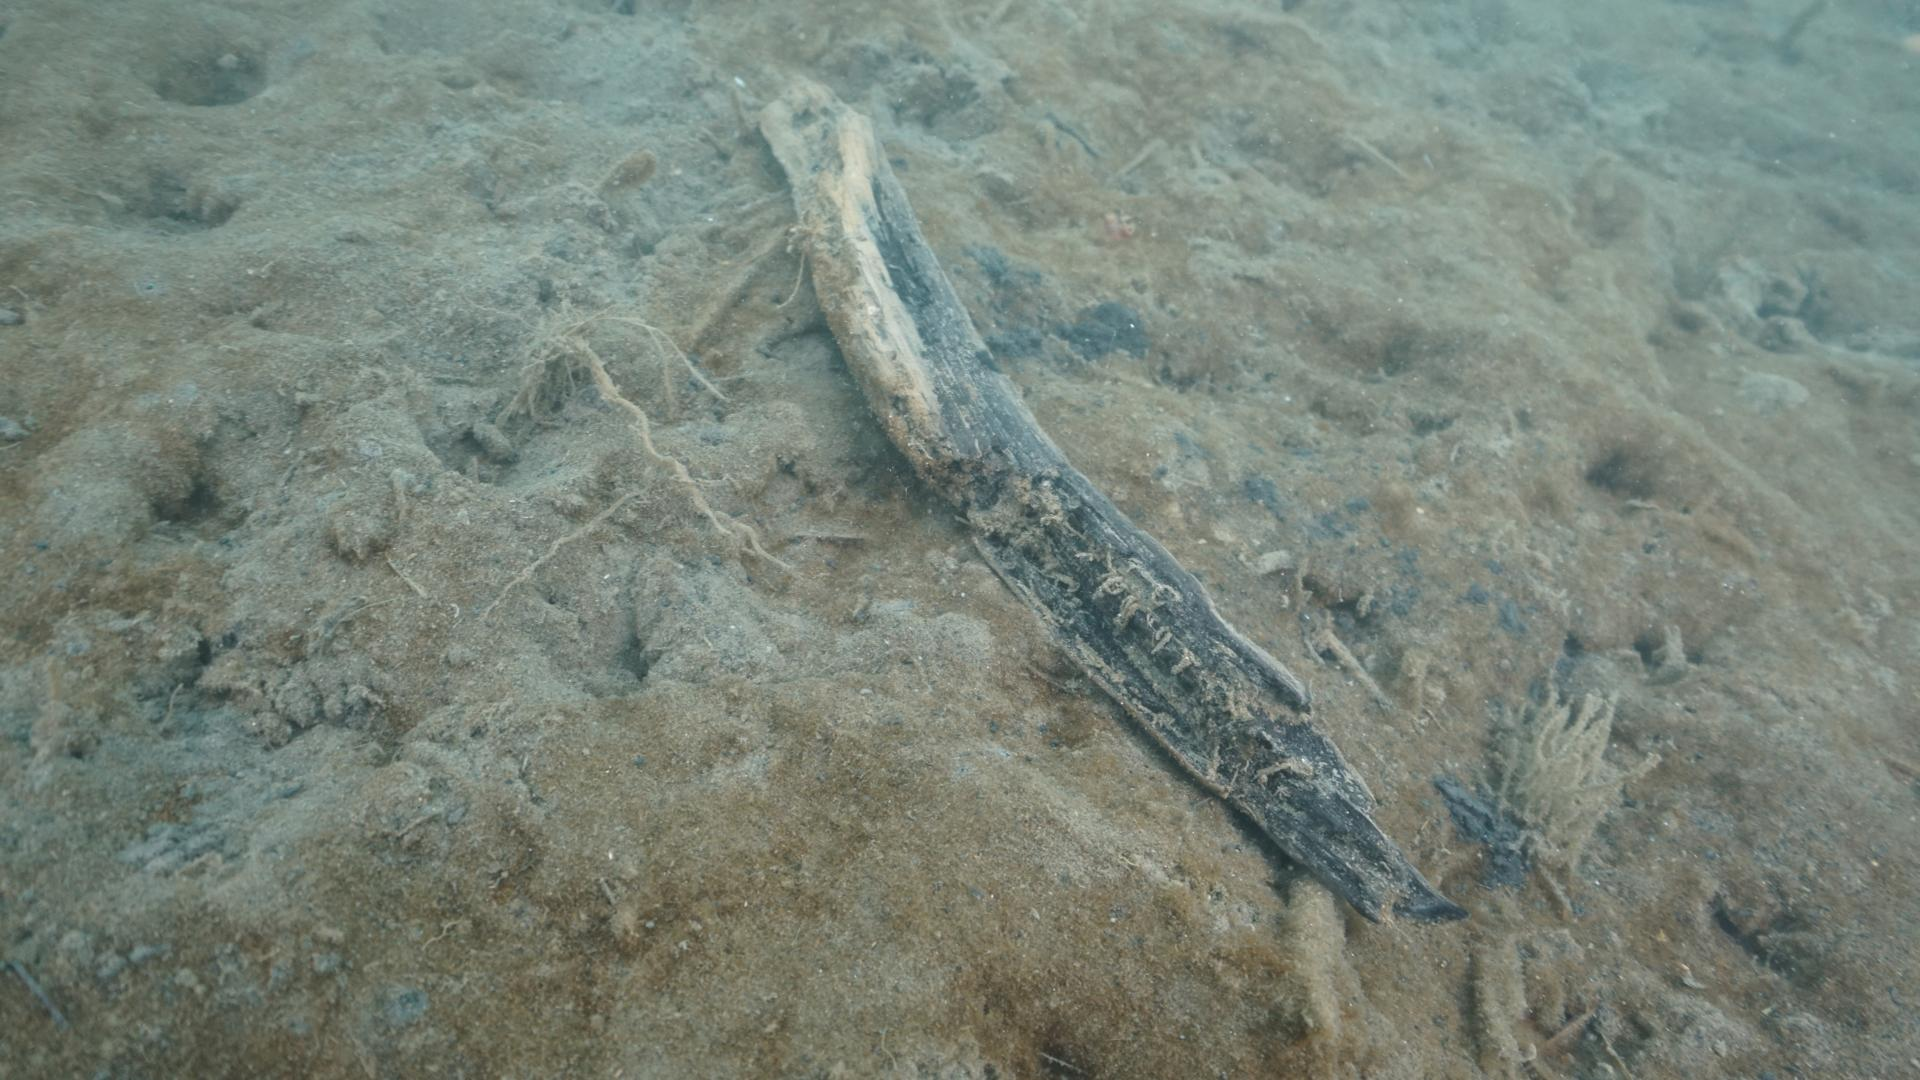wood: (736, 54, 1468, 928)
